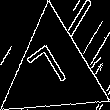L_SE: (28, 40, 77, 100)
